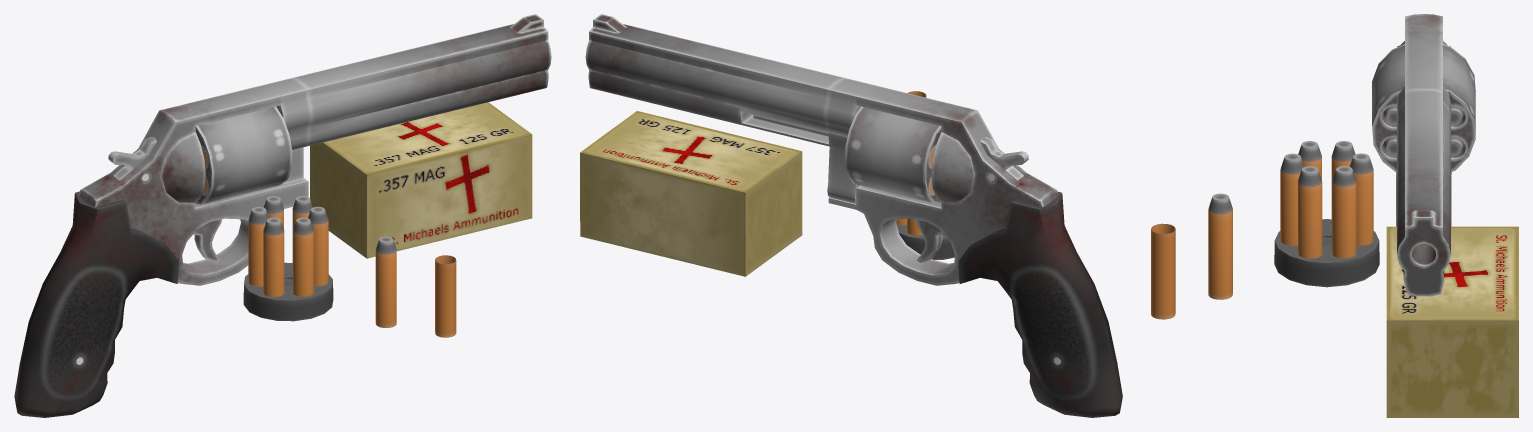
File: revolver-game-asset__revolver_fbx_gltf_blend_textures__RevolverPreview.glb
3 renders of one model, left to right at view 1: azimuth 30°, elevation 25°; view 2: azimuth 150°, elevation 25°; view 3: azimuth 270°, elevation 25°, orthographic. The views are drawn at different scales.
Parts seen in each view (by area): view 1: REV_Frame, 357AmmunitionBox, REV_Handle, REV_Cylinder, 357BulletCylinders, 357Bullet, 357BulletFired, 357Bullet.004, 357Bullet.003, 357Bullet.005, 357Bullet.002, Hammer (+1 smaller); view 2: REV_Frame, 357AmmunitionBox, REV_Handle, REV_Cylinder, LOW_CHamberRotate, Hammer, 357BulletCylinders, REV_Trigger; view 3: 357AmmunitionBox, REV_Frame, REV_Cylinder, 357BulletCylinders, 357Bullet, 357BulletFired, 357Bullet.001, 357Bullet.002, 357Bullet.003, 357Bullet.007, 357Bullet.005, 357Bullet.004.
Part boxes in pixels (x1,y1,x2,y2): REV_Frame: (78, 14, 551, 285); 357AmmunitionBox: (310, 102, 532, 258); REV_Handle: (14, 191, 178, 417); REV_Cylinder: (195, 106, 292, 204); 357BulletCylinders: (243, 262, 333, 321); 357Bullet: (375, 236, 396, 327); 357BulletFired: (435, 255, 456, 337); 357Bullet.004: (263, 217, 284, 296); 357Bullet.003: (293, 217, 313, 296); 357Bullet.005: (248, 207, 268, 286); 357Bullet.002: (308, 206, 328, 286); Hammer: (108, 137, 156, 180); REV_Frame: (585, 14, 1058, 285); 357AmmunitionBox: (580, 111, 802, 276); REV_Handle: (958, 191, 1122, 417); REV_Cylinder: (844, 106, 941, 204); LOW_CHamberRotate: (827, 133, 859, 203); Hammer: (980, 137, 1028, 180); 357BulletCylinders: (896, 224, 954, 259); REV_Trigger: (915, 219, 943, 262); 357AmmunitionBox: (1386, 226, 1518, 417); REV_Frame: (1397, 14, 1450, 296); REV_Cylinder: (1372, 44, 1475, 172); 357BulletCylinders: (1274, 219, 1379, 287); 357Bullet: (1208, 193, 1232, 299); 357BulletFired: (1151, 223, 1175, 319); 357Bullet.001: (1332, 166, 1356, 258); 357Bullet.002: (1298, 166, 1322, 258); 357Bullet.003: (1280, 153, 1304, 245); 357Bullet.007: (1349, 153, 1373, 245); 357Bullet.005: (1331, 141, 1355, 227); 357Bullet.004: (1298, 141, 1321, 179).
Size of what is drawn, in the model's own units: 0.3446 by 0.1767 by 0.1804.
Materials: 2 (2 with a texture image).
